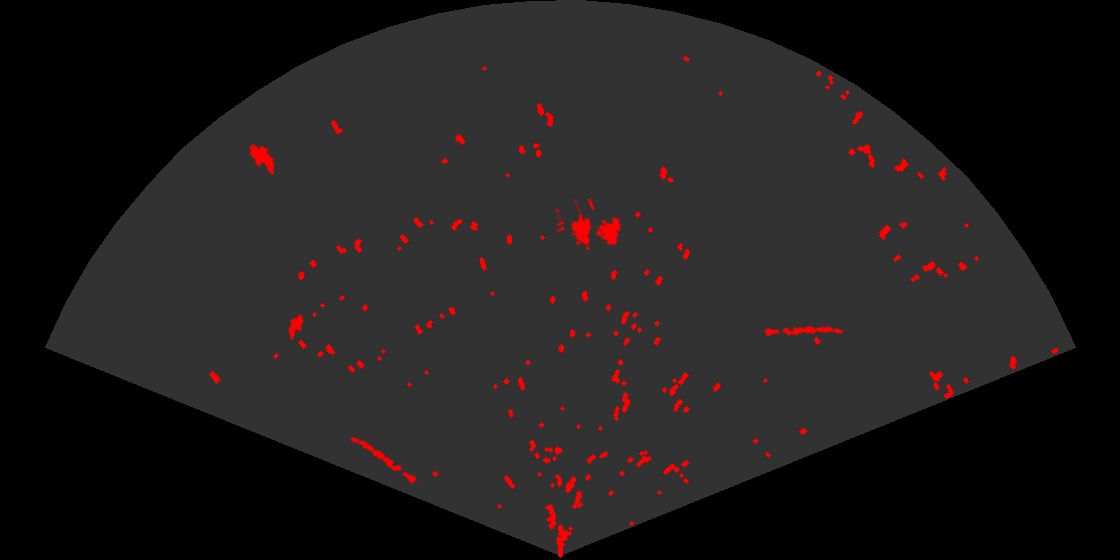AUV: (248, 142, 276, 176), (285, 313, 305, 342)
cage: (557, 199, 622, 252)
chain: (348, 435, 426, 490), (763, 324, 844, 338)
